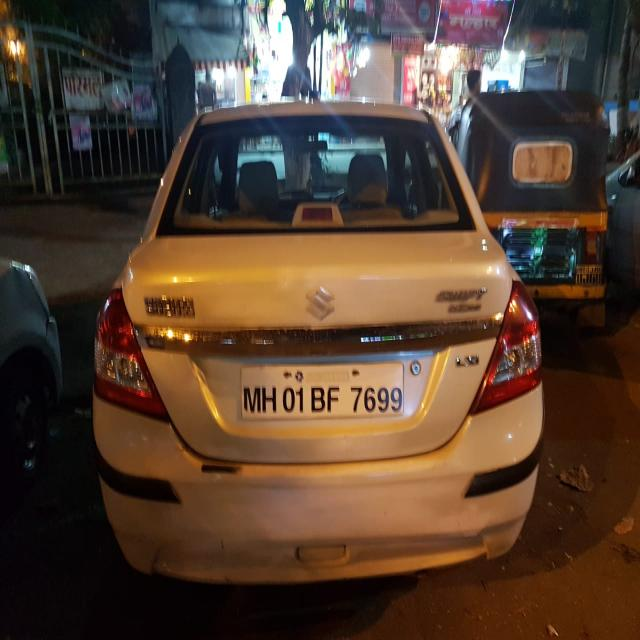Number-Plate: (238, 363, 404, 418)
